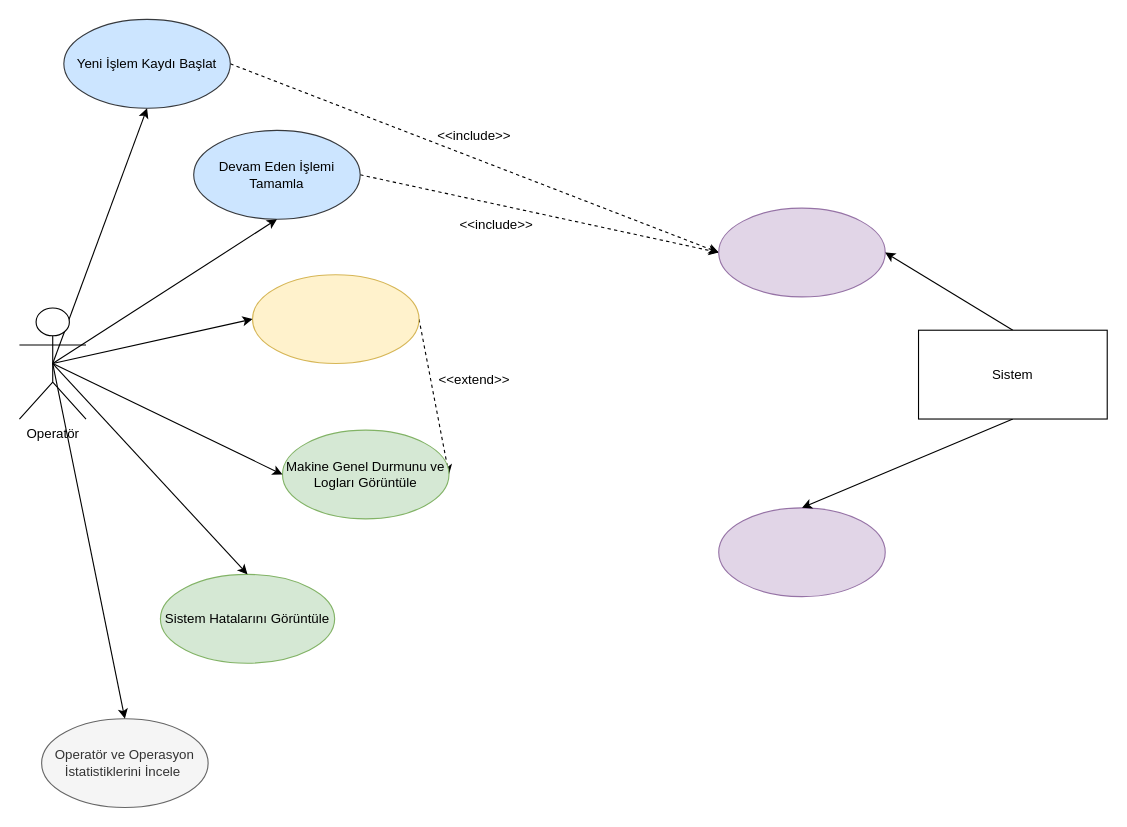
The diagram is 1127 pixels wide and 827 high, and some of its shapes have lost their labels. Here are the shapes that lost their labels. From the top down, the centre of each, then its label:
point (801, 252): Kimlik Doğrulama ve Yetki Kontrolü
point (335, 319): Yeni Hata Kaydı Oluştur
point (801, 552): İşlem Süresi Hesaplama
